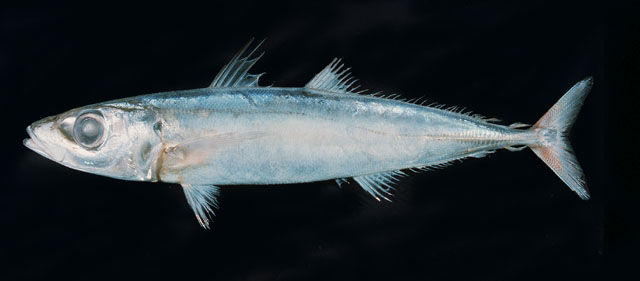fish: (22, 36, 592, 231)
